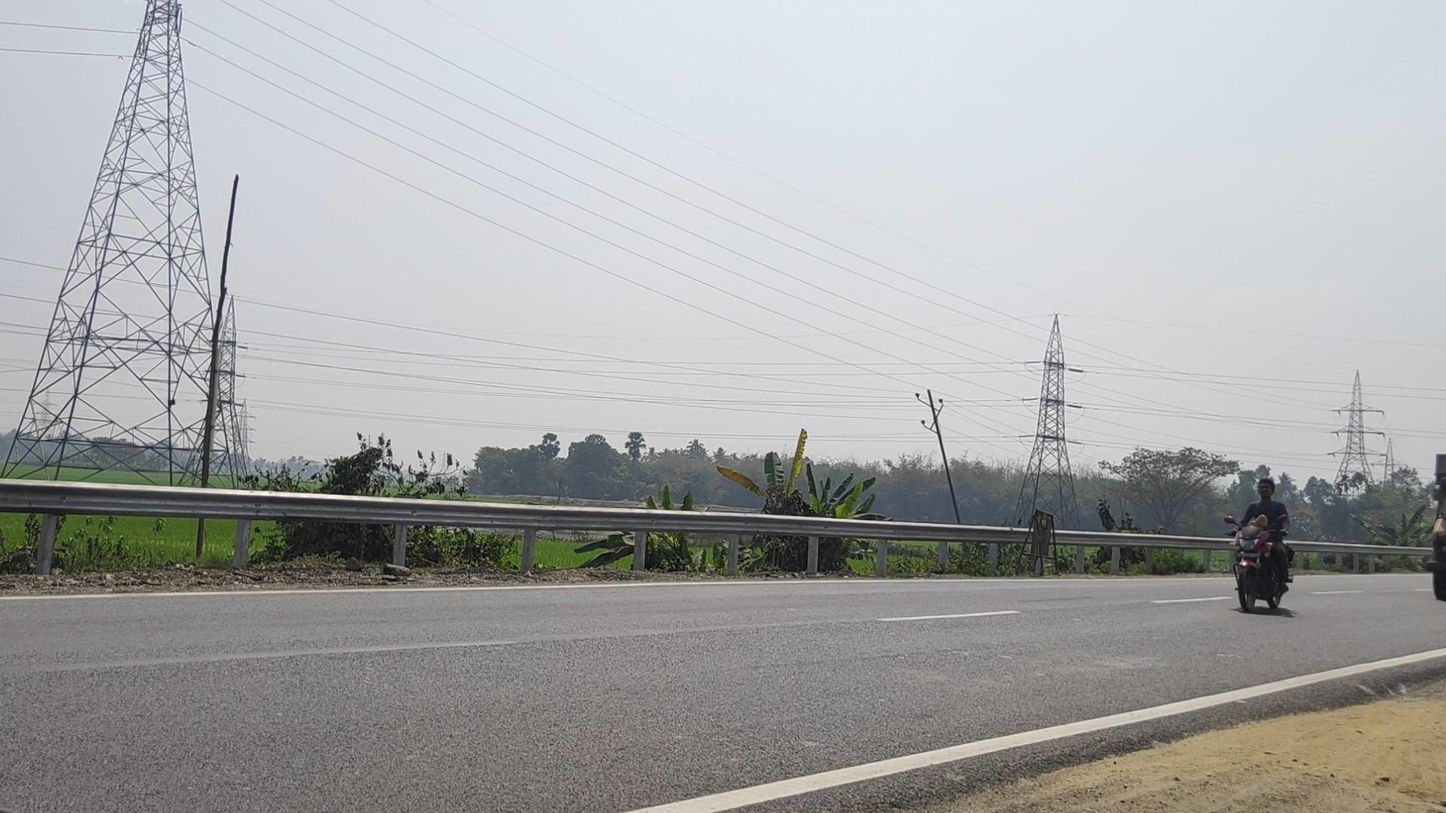bike: (1224, 479, 1295, 614)
